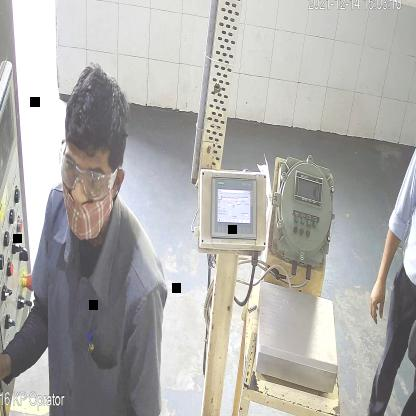goggles: (56, 152, 114, 198)
